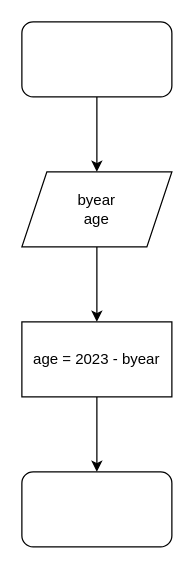
Image size: 194x569. Some labels were removed from this diagram. Each missing label, with the centre of its shape:
End: the point at 96,509
Start: the point at 96,59
